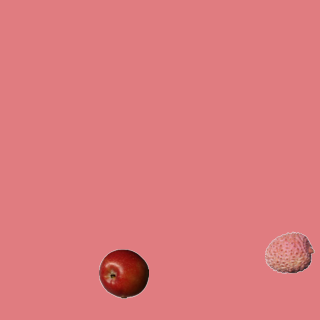Apple Braeburn: (98, 248, 148, 298)
Lychee: (264, 227, 314, 277)
